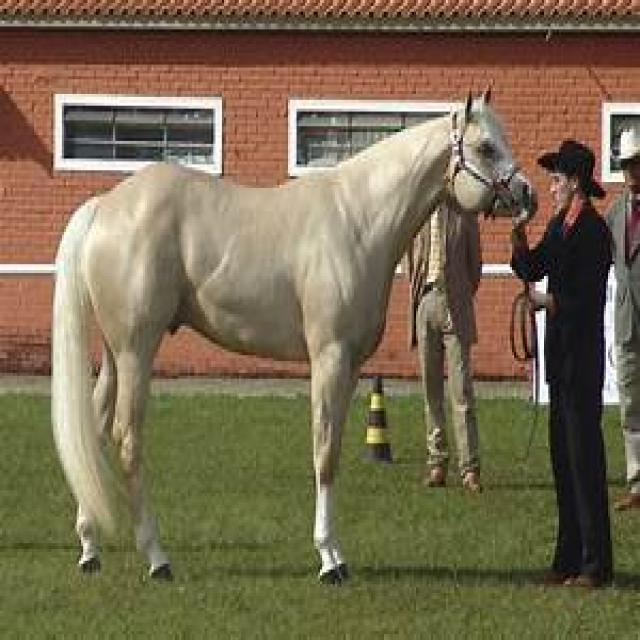horse: (49, 94, 529, 587)
